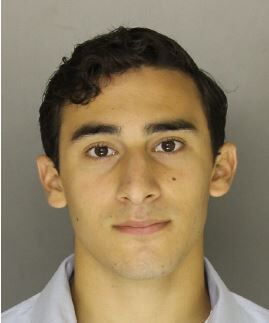no_mask: (31, 23, 239, 289)
